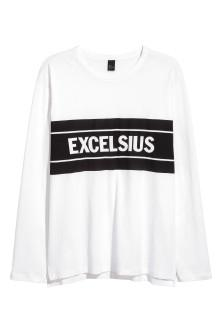teeshirt: (16, 41, 218, 292)
